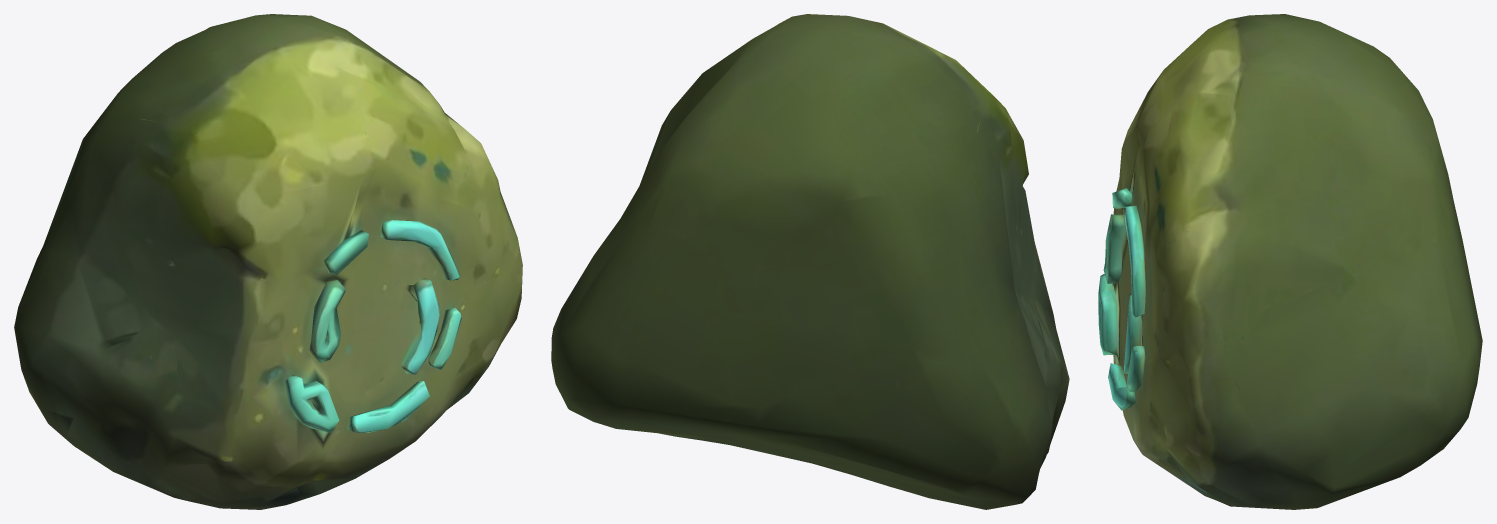
Rendered from stone.glb.
3 renders of one model, left to right at view 1: azimuth 30°, elevation 25°; view 2: azimuth 150°, elevation 25°; view 3: azimuth 270°, elevation 25°, orthographic. The views are drawn at different scales.
Visible parts, largest first — view 1: tripo_node_2631a1a4-86af-466f-a98a-3d7c825fbe77; view 2: tripo_node_2631a1a4-86af-466f-a98a-3d7c825fbe77; view 3: tripo_node_2631a1a4-86af-466f-a98a-3d7c825fbe77.
Boxes of the visible parts, x1,y1,x2,y2 form: tripo_node_2631a1a4-86af-466f-a98a-3d7c825fbe77: (14,14,522,509); tripo_node_2631a1a4-86af-466f-a98a-3d7c825fbe77: (551,14,1069,509); tripo_node_2631a1a4-86af-466f-a98a-3d7c825fbe77: (1098,14,1482,509).
Size of the model in its own units: 0.9794 by 0.9359 by 0.734.
1 material, 1 textured.
